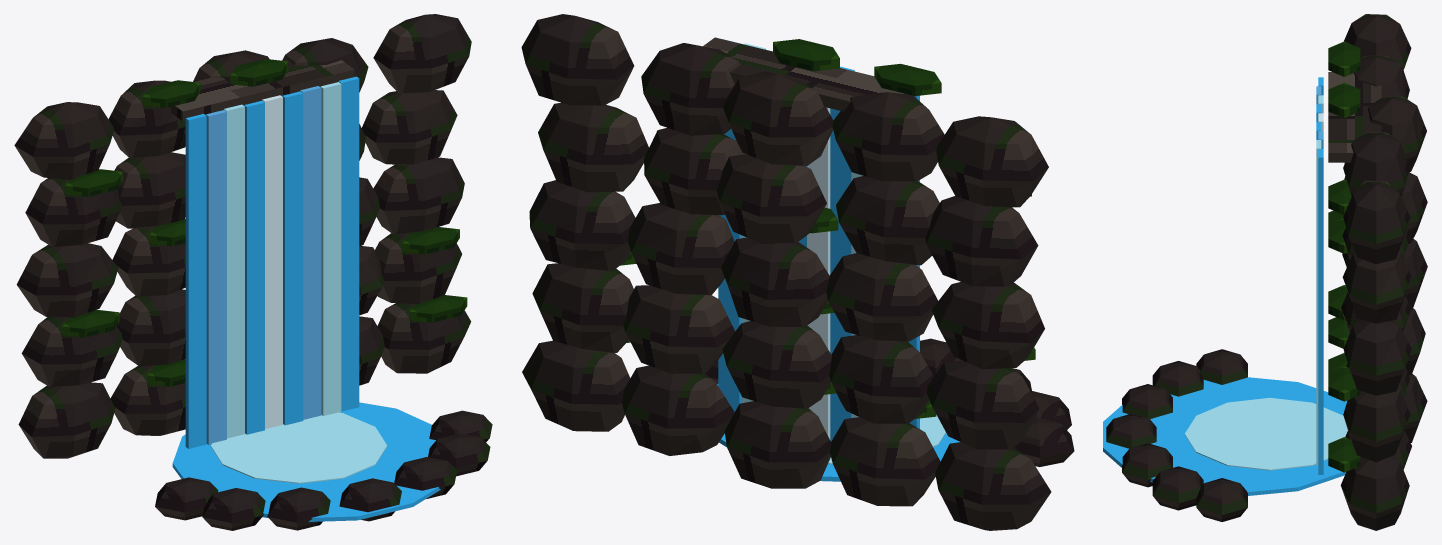
File: waterfall.glb
3 views of the same model, side by side, from view 1: azimuth 30°, elevation 25°; view 2: azimuth 150°, elevation 25°; view 3: azimuth 270°, elevation 25° (orthographic). The views are drawn at different scales.
Parts seen in each view (by area): view 1: waterfall; view 2: waterfall; view 3: waterfall.
Boxes of the visible parts, <box> form: waterfall: <box>14,14,492,530</box>; waterfall: <box>521,14,1074,530</box>; waterfall: <box>1103,14,1427,530</box>.
Bounding box in the file's own units: 4.7 × 3.73 × 3.05.
Materials: 3 (2 with a texture image).
